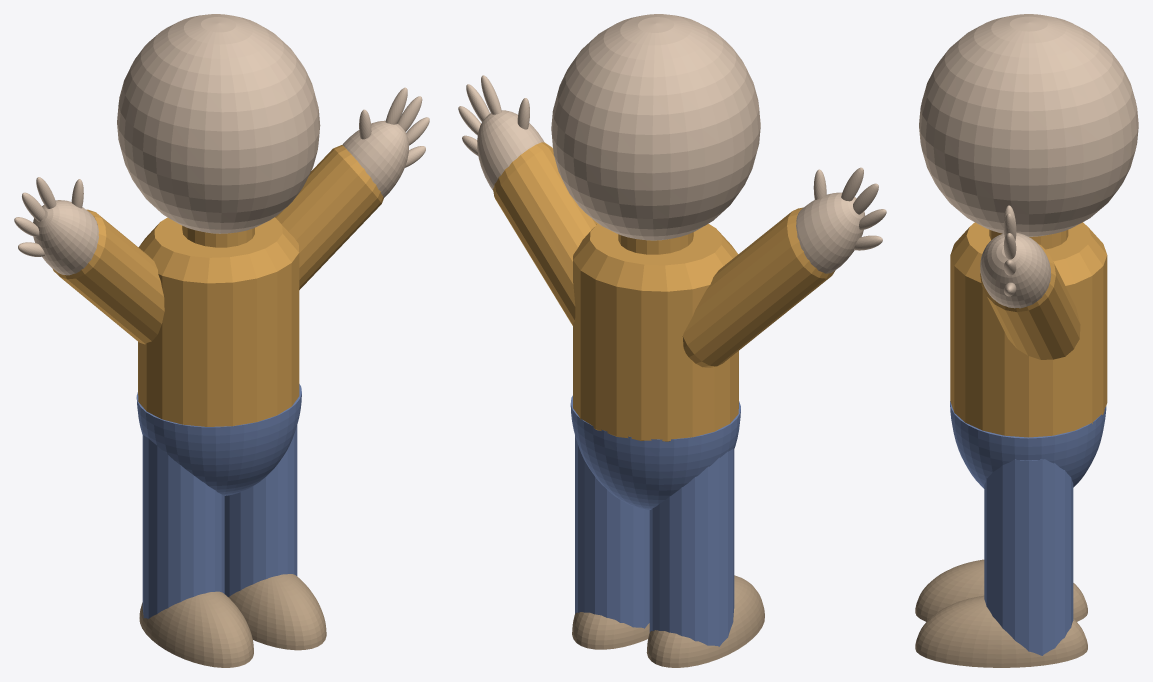
File: barista3.glb
3 views of the same model, side by side, from view 1: azimuth 30°, elevation 25°; view 2: azimuth 150°, elevation 25°; view 3: azimuth 270°, elevation 25° (orthographic). The views are drawn at different scales.
Visible parts, largest first — view 1: Mesh_Mesh_head_geo.001_lambert2SG.001; view 2: Mesh_Mesh_head_geo.001_lambert2SG.001; view 3: Mesh_Mesh_head_geo.001_lambert2SG.001.
Boxes of the visible parts, box(x1,y1,x2,y2) form: Mesh_Mesh_head_geo.001_lambert2SG.001: box(14, 14, 429, 667); Mesh_Mesh_head_geo.001_lambert2SG.001: box(458, 14, 886, 667); Mesh_Mesh_head_geo.001_lambert2SG.001: box(915, 14, 1138, 667).
Size of the model in its own units: 0.019 by 0.026 by 0.00868.
